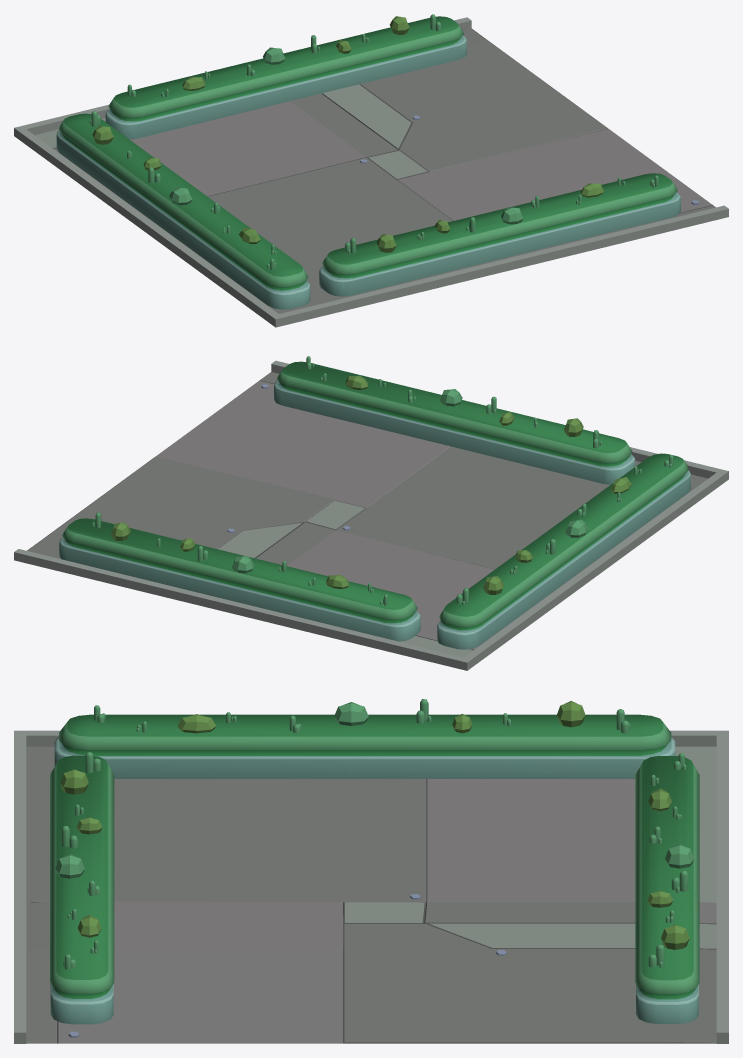
Rendered from DeadEnd_A.gltf.
3 renders of one model, top to bottom at view 1: azimuth 30°, elevation 25°; view 2: azimuth 150°, elevation 25°; view 3: azimuth 270°, elevation 25°, orthographic. The views are drawn at different scales.
Parts seen in each view (by area): view 1: Scifi_Panel_04_Plaza014_group4.011_Scifi_Panel_04_Plaza014_.; view 2: Scifi_Panel_04_Plaza014_group4.011_Scifi_Panel_04_Plaza014_.; view 3: Scifi_Panel_04_Plaza014_group4.011_Scifi_Panel_04_Plaza014_..
Boxes of the visible parts, x1=… form: Scifi_Panel_04_Plaza014_group4.011_Scifi_Panel_04_Plaza014_.: x1=14, y1=14, x2=728, y2=327; Scifi_Panel_04_Plaza014_group4.011_Scifi_Panel_04_Plaza014_.: x1=14, y1=356, x2=728, y2=670; Scifi_Panel_04_Plaza014_group4.011_Scifi_Panel_04_Plaza014_.: x1=14, y1=699, x2=728, y2=1043.
Size of what is drawn, in the model's own units: 10 by 0.9439 by 10.
1 material, 1 textured.
